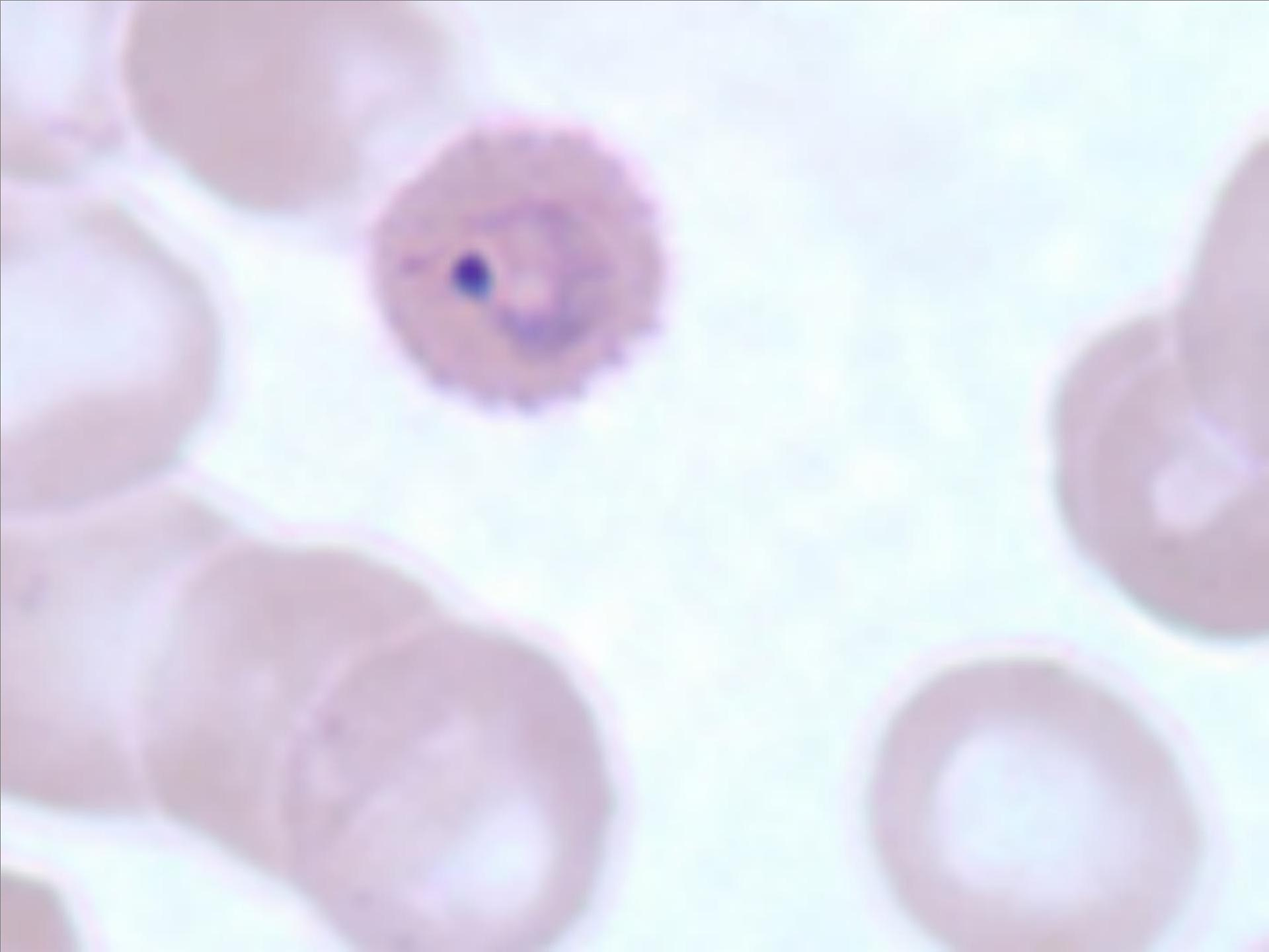Infected: (370, 120, 677, 414)
Uninfected: (128, 545, 474, 870), (282, 624, 615, 952), (0, 475, 304, 827), (881, 649, 1207, 952), (128, 0, 441, 213)
